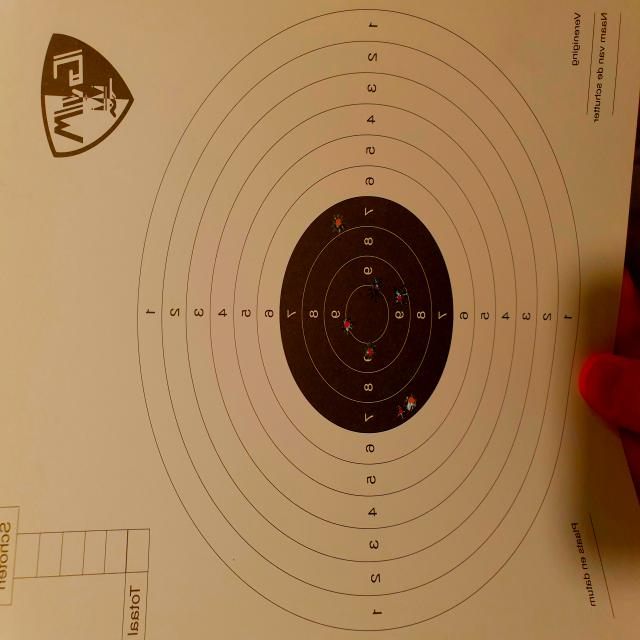10: (368, 278, 383, 302), (362, 342, 376, 360), (341, 317, 354, 335)
7: (392, 400, 407, 420), (405, 396, 417, 412)
8: (331, 215, 347, 237)
9: (394, 284, 409, 308)
Target: (136, 8, 580, 634)
black_contour: (280, 197, 452, 435)
